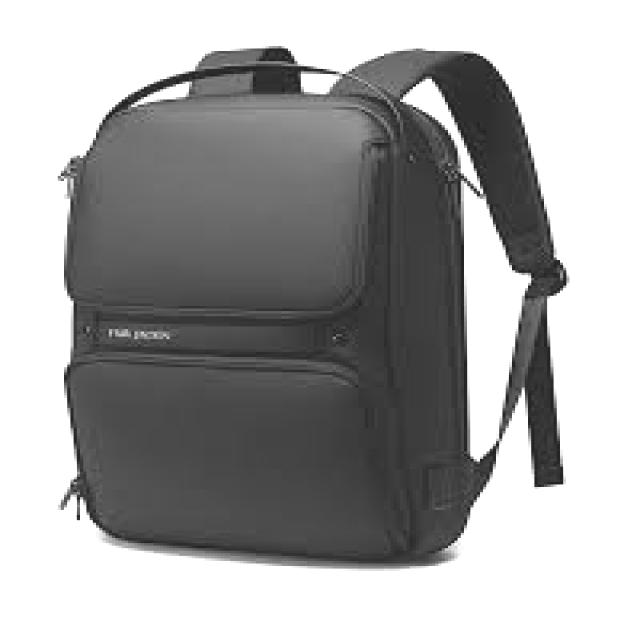backpack: (56, 44, 568, 562)
